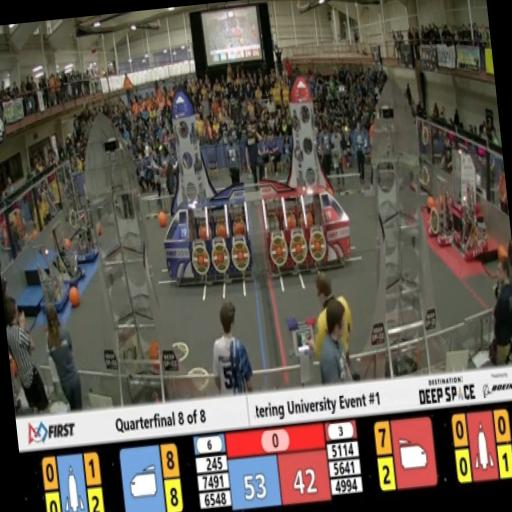robot: (448, 177, 490, 256), (421, 174, 460, 248), (448, 144, 484, 218), (52, 220, 88, 288), (36, 250, 72, 310), (69, 209, 103, 261)
